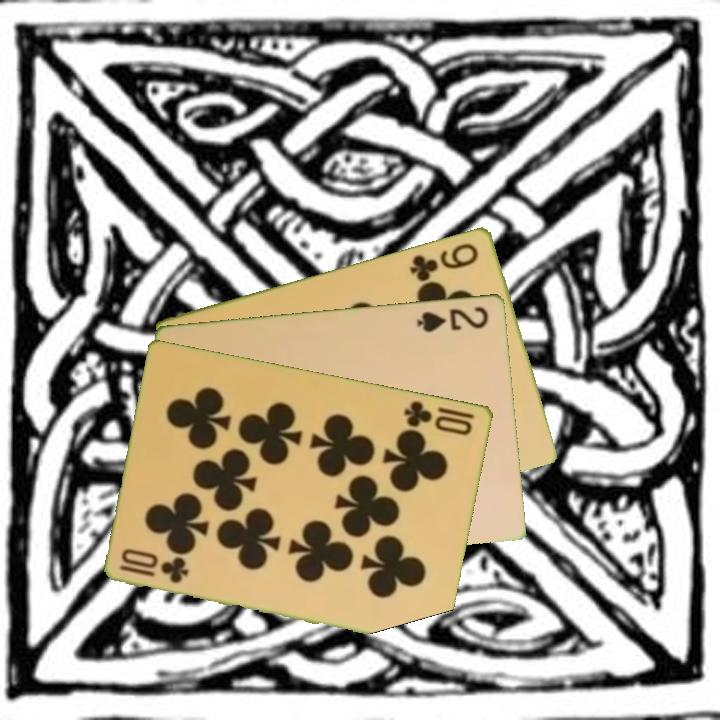10c: (401, 397, 475, 438), (116, 556, 192, 586)
2s: (413, 303, 492, 335)
9c: (406, 239, 482, 283)
